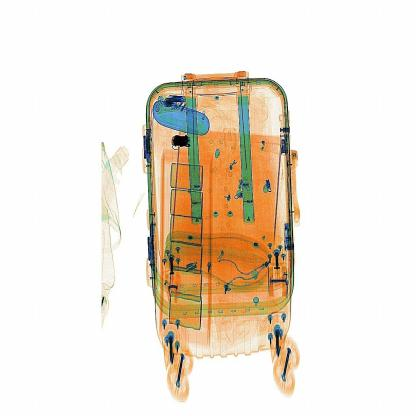scissors: (165, 129, 200, 155)
